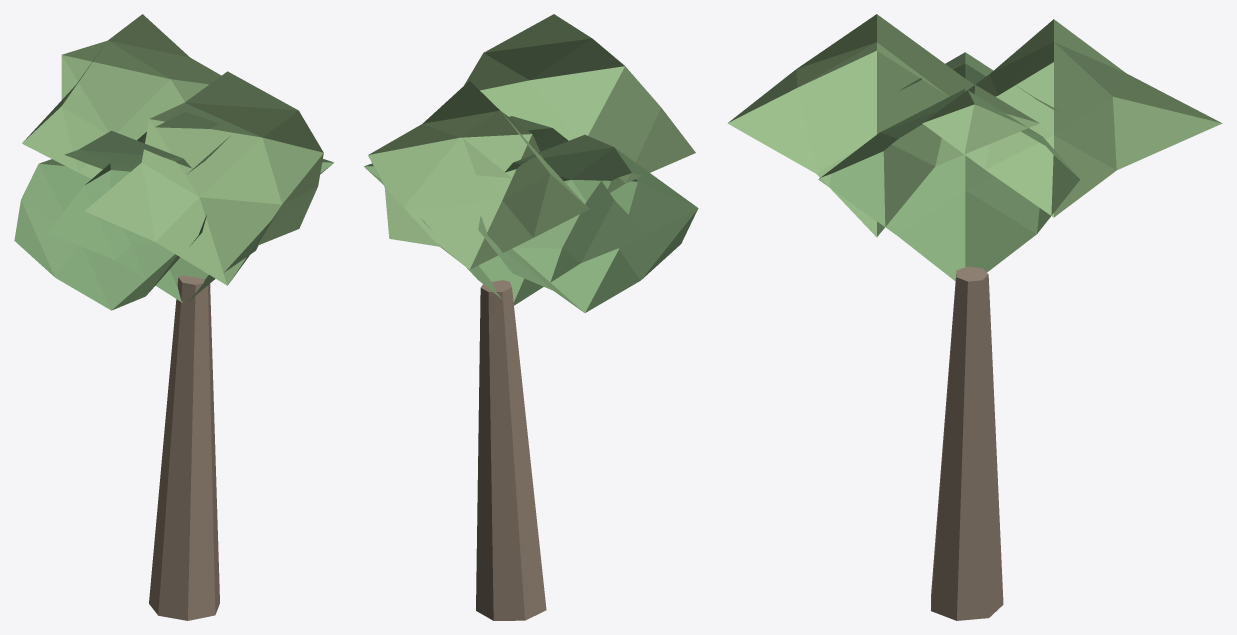
The model's file is broadleaf_v39.glb.
3 views of the same model, side by side, from view 1: azimuth 30°, elevation 25°; view 2: azimuth 150°, elevation 25°; view 3: azimuth 270°, elevation 25° (orthographic). The views are drawn at different scales.
Visible parts, largest first — view 1: lod0; view 2: lod0; view 3: lod0.
Part boxes in pixels (x1,y1,x2,y2): lod0: (14, 14, 333, 620); lod0: (364, 14, 698, 620); lod0: (727, 14, 1222, 620).
Size of what is drawn, in the model's own units: 3.63 by 6.16 by 4.67.
